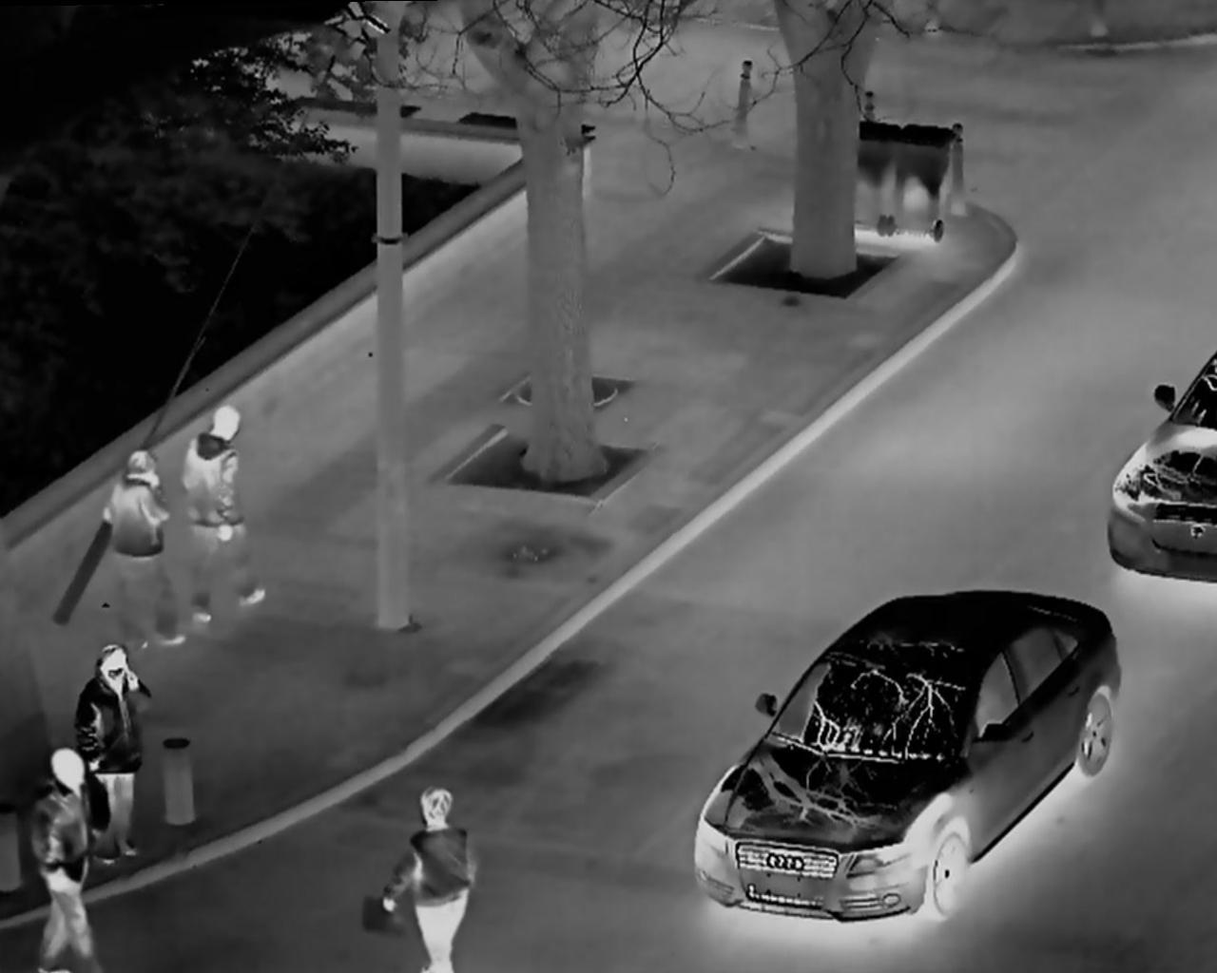person: (361, 765, 484, 963), (69, 628, 159, 864), (181, 395, 266, 633), (36, 731, 107, 965), (103, 438, 181, 649)
